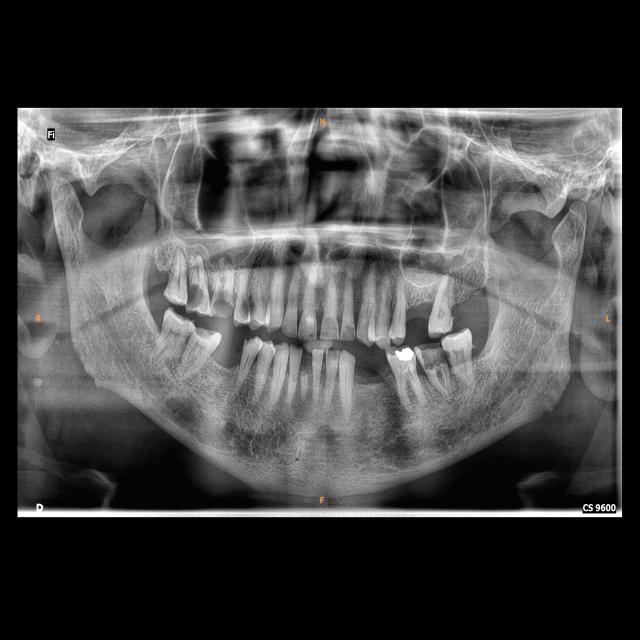dentin-curugu: (420, 346, 445, 370), (214, 291, 234, 320), (184, 283, 206, 309), (236, 294, 250, 322), (250, 291, 258, 317), (446, 344, 452, 362)
dolgu: (392, 346, 415, 365)
